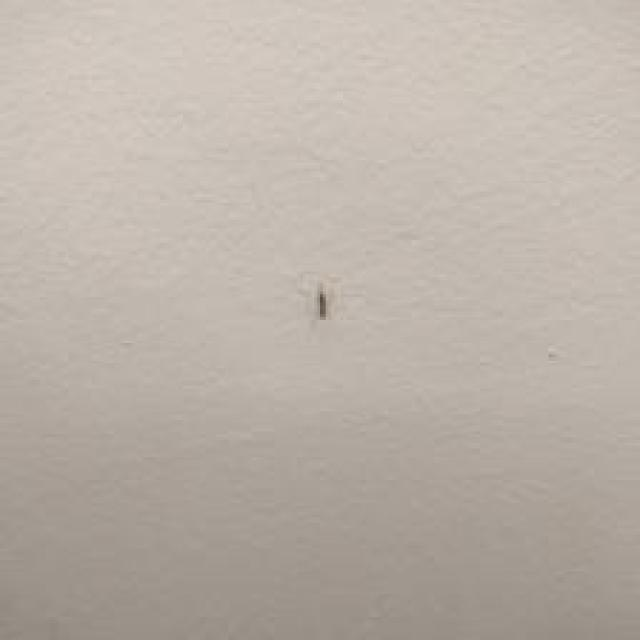Culex: (316, 282, 327, 318)
